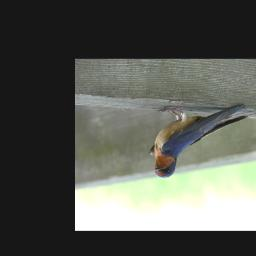Swallow: (148, 102, 256, 179)
